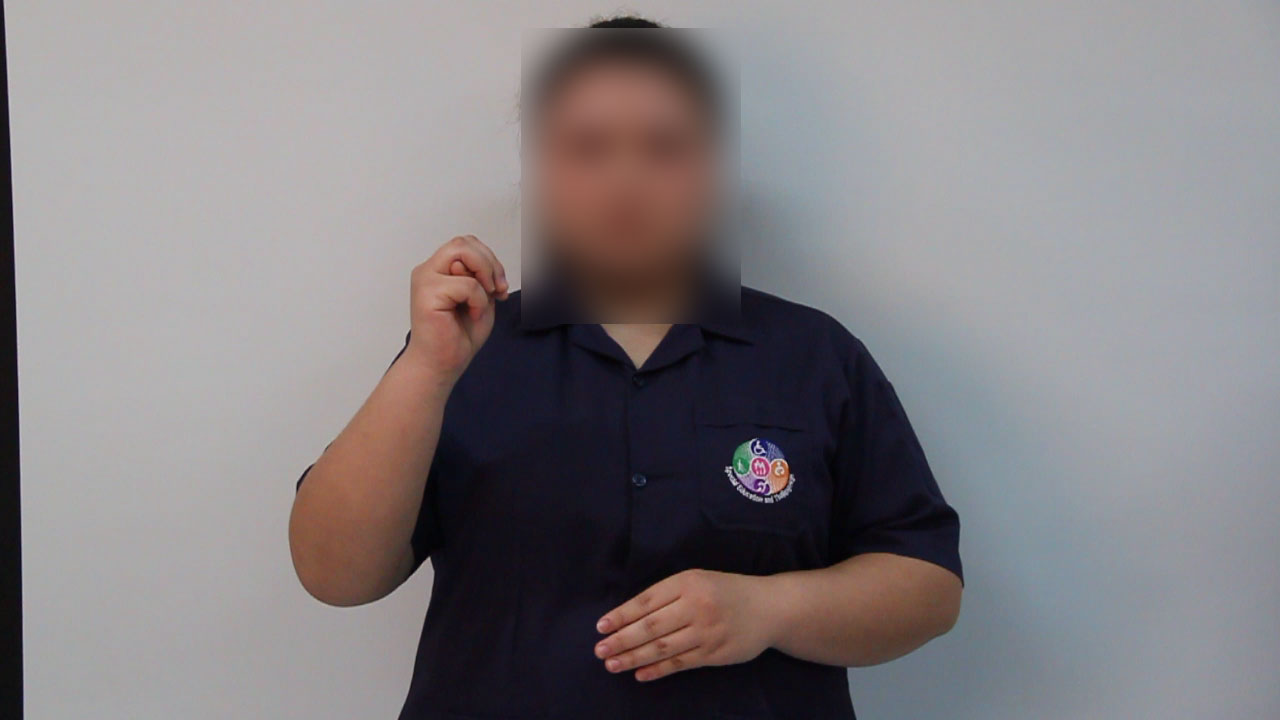mor: (391, 211, 518, 387)
